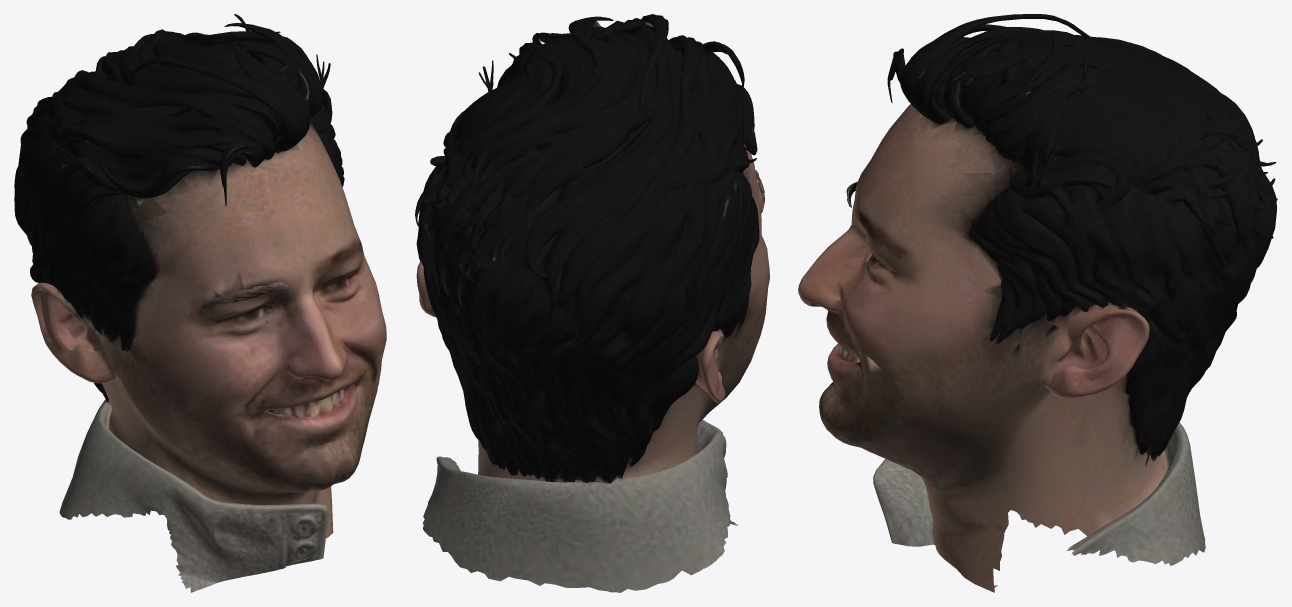
File: head_brendan.glb
The picture shows the model from 3 angles, left to right: view 1: azimuth 30°, elevation 25°; view 2: azimuth 150°, elevation 25°; view 3: azimuth 270°, elevation 25°; orthographic projection. The views are drawn at different scales.
Visible parts, largest first — view 1: Mesh_0; view 2: Mesh_0; view 3: Mesh_0.
Part boxes in pixels (<box>): Mesh_0: <box>14,14,386,592</box>; Mesh_0: <box>415,14,769,592</box>; Mesh_0: <box>798,14,1277,592</box>.
Bounding box in the file's own units: 0.724 × 1.16 × 0.9722.
1 material, 1 textured.
